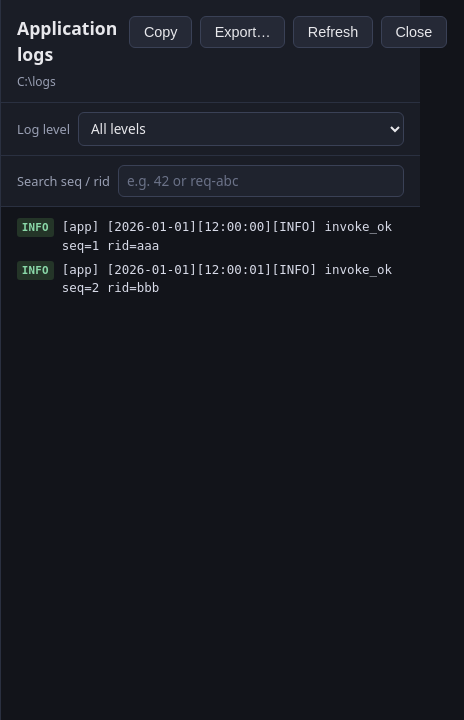
Test case: LogViewerPanel › filters by seq or rid search
The width and height of the screenshot is (464, 720).
Check: the element with test id "logs-body" shows "rid=bbb", box [62, 262, 400, 295]
In the search field with test id "logs-search": x=261, y=181 [118, 165, 404, 198], type "aaa"
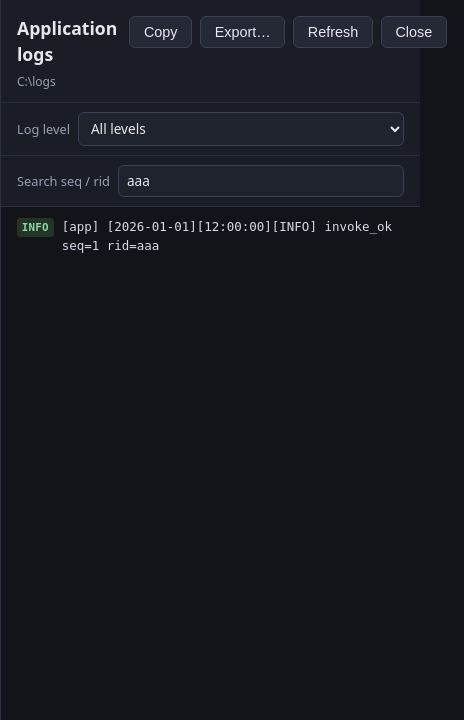
Check: the element with test id "logs-body" shows "rid=aaa", box [62, 219, 400, 252]
Check: the element with test id "logs-body" no longer shows "rid=bbb"
